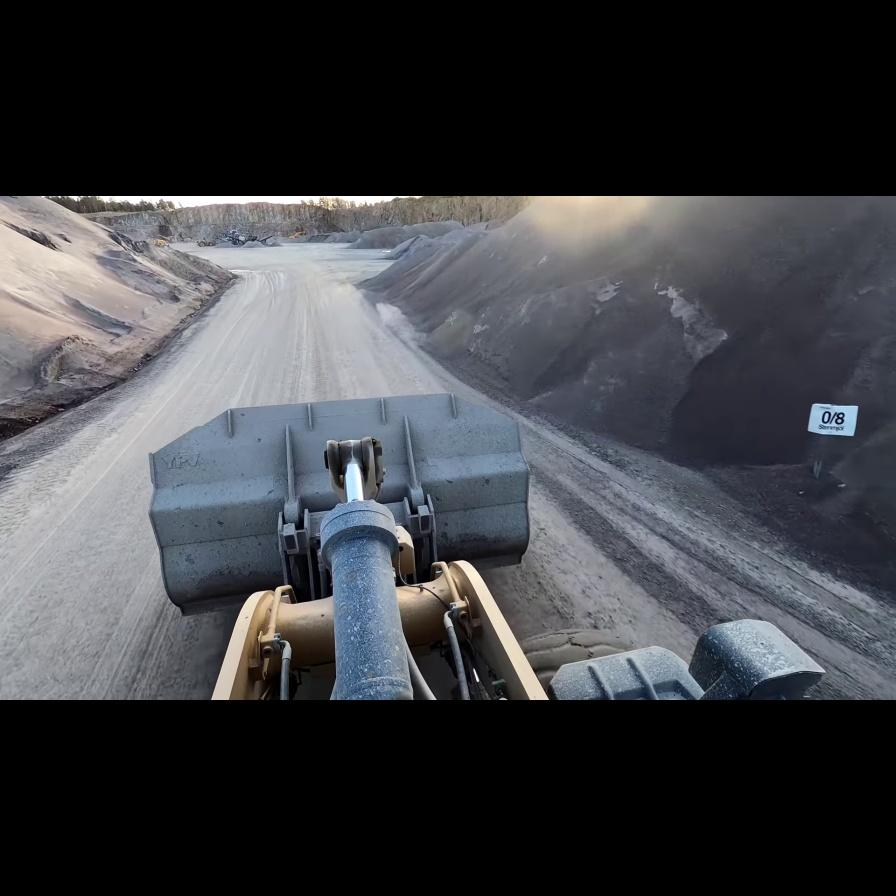anchor: (324, 437, 384, 503)
pile of gravel: (379, 194, 896, 589), (0, 195, 240, 452), (342, 220, 473, 252), (316, 230, 364, 245), (239, 239, 272, 248)
